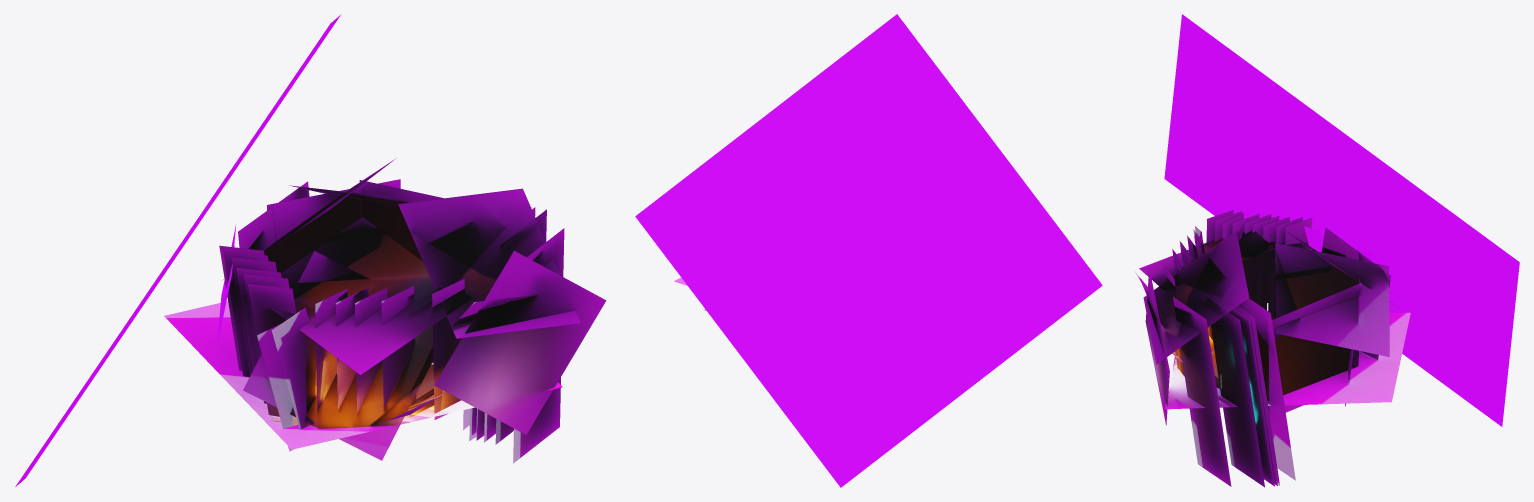
Rendered from Level 3 Chair Export.gltf.
3 views of the same model, side by side, from view 1: azimuth 30°, elevation 25°; view 2: azimuth 150°, elevation 25°; view 3: azimuth 270°, elevation 25° (orthographic). The views are drawn at different scales.
Visible parts, largest first — view 1: Plane, Ouside Plane; view 2: Ouside Plane; view 3: Ouside Plane, Plane.
Boxes of the visible parts, x1=… form: Plane: x1=164, y1=159, x2=606, y2=463; Ouside Plane: x1=15, y1=14, x2=341, y2=486; Ouside Plane: x1=635, y1=14, x2=1102, y2=487; Ouside Plane: x1=1164, y1=14, x2=1519, y2=426; Plane: x1=1135, y1=210, x2=1410, y2=487.
Size of what is drawn, in the model's own units: 2469 by 2418 by 1865.
Materials: 2 (1 with a texture image).
